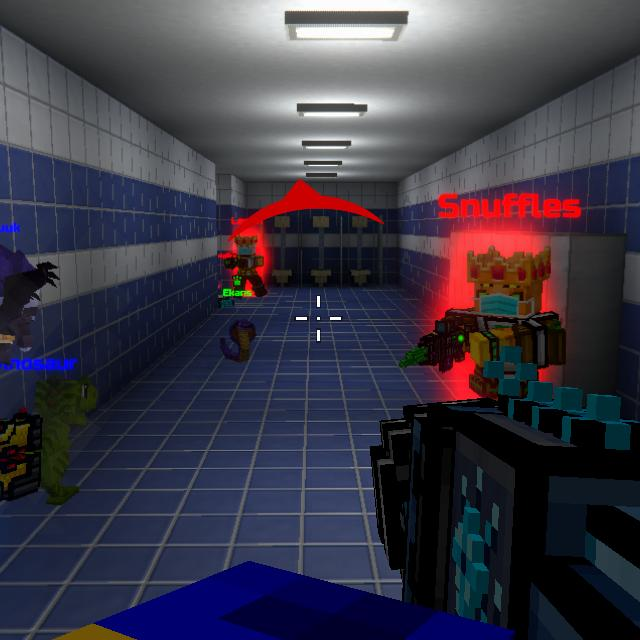Enemy: (419, 252, 568, 408), (225, 237, 265, 299)
